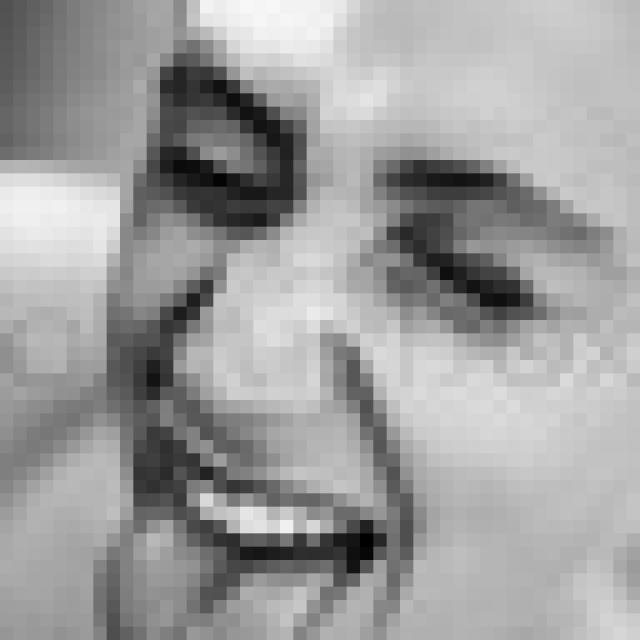disgust: (94, 51, 629, 640)
